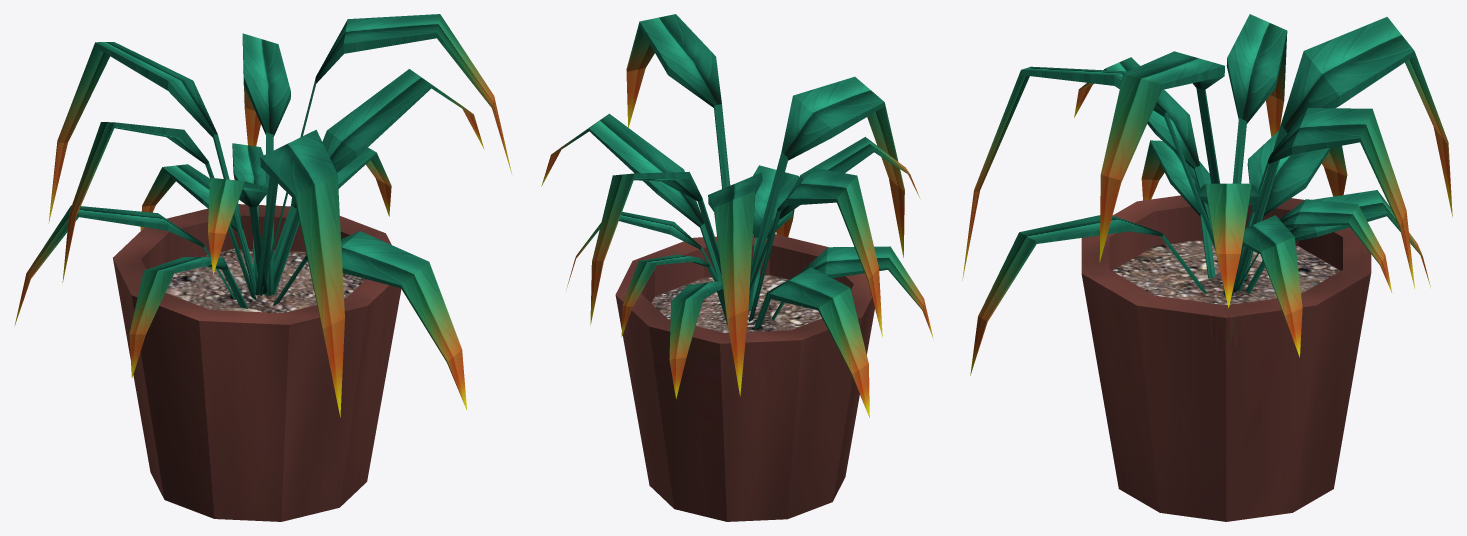
Rendered from Plant2.obj.
The picture shows the model from 3 angles, left to right: view 1: azimuth 30°, elevation 25°; view 2: azimuth 150°, elevation 25°; view 3: azimuth 270°, elevation 25°; orthographic projection. The views are drawn at different scales.
Parts seen in each view (by area): view 1: plant_plant.006; view 2: plant_plant.006; view 3: plant_plant.006.
Part boxes in pixels (x1=…): plant_plant.006: x1=14, y1=14, x2=511, y2=521; plant_plant.006: x1=541, y1=14, x2=933, y2=521; plant_plant.006: x1=962, y1=14, x2=1452, y2=521.
Size of the model in its own units: 4.9 by 5.04 by 4.81.
Materials: 1 (1 with a texture image).
